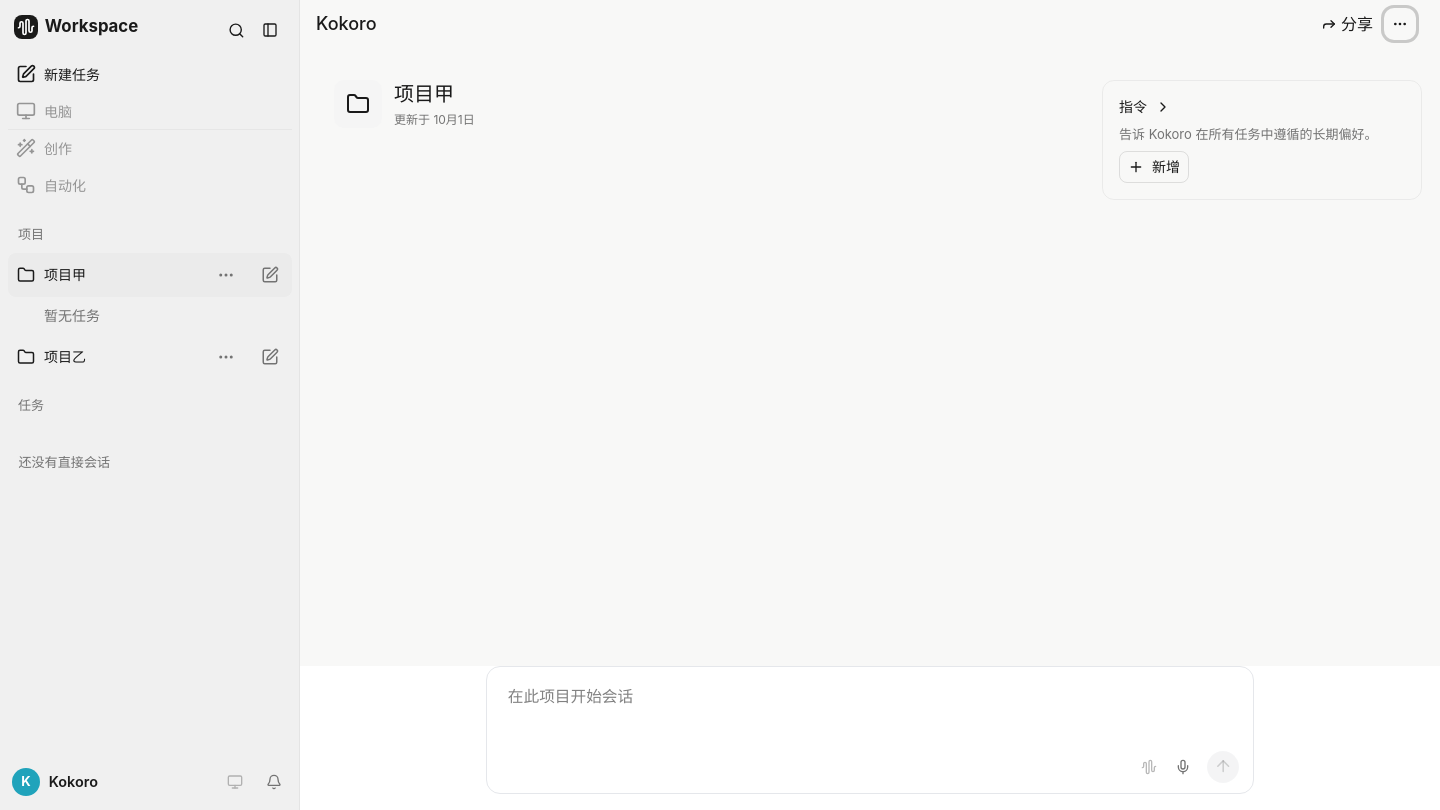
Test: 顶部菜单键盘打开同一项目指令 editor，取消零写入并回到原按钮
expect the heading "项目甲" is shown: met, box left=394, top=82, right=454, bottom=106
Press ArrowDown in the 1st button named "项目选项", box left=1384, top=8, right=1416, bottom=40
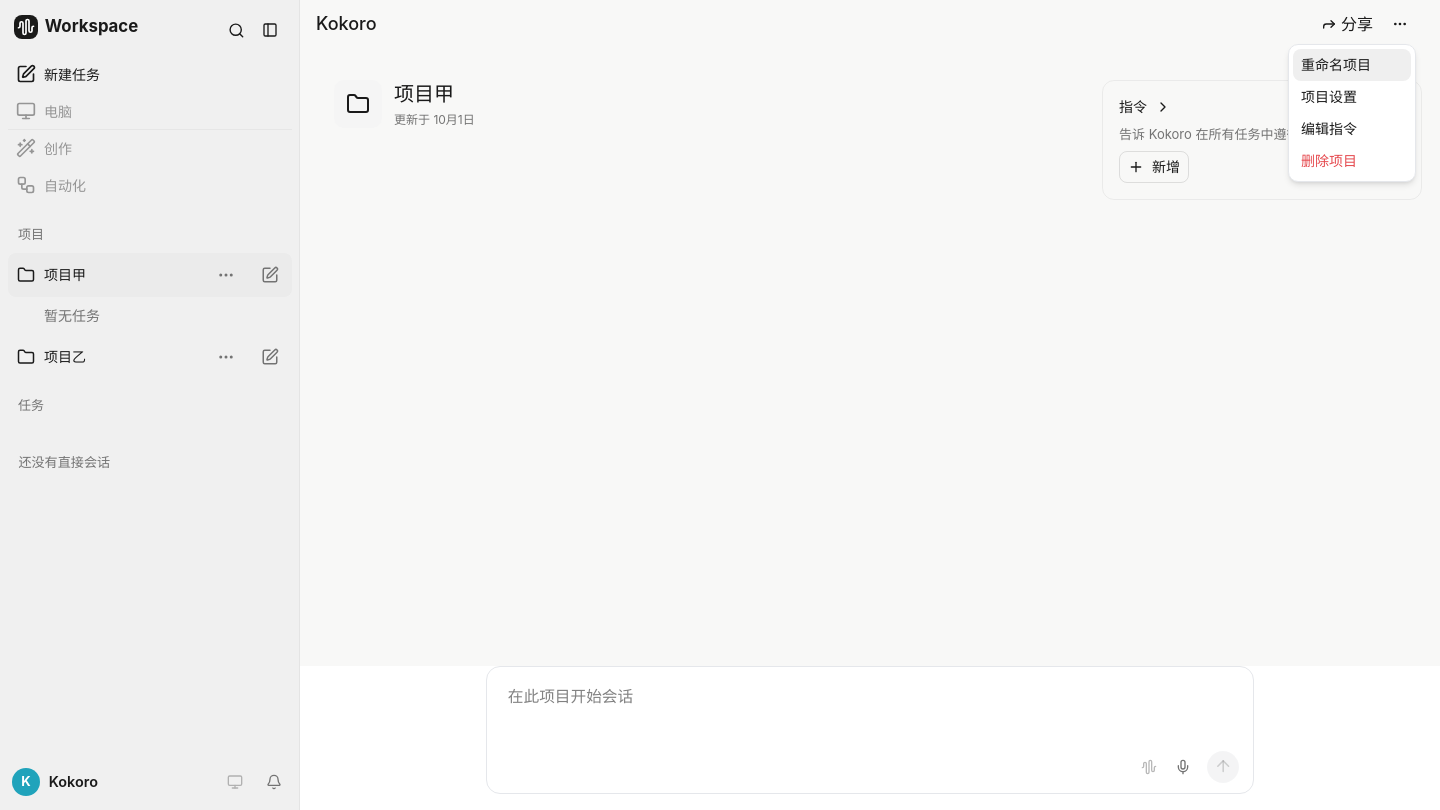
Click the menu item "编辑指令" at (1329, 128), box left=1301, top=120, right=1357, bottom=137
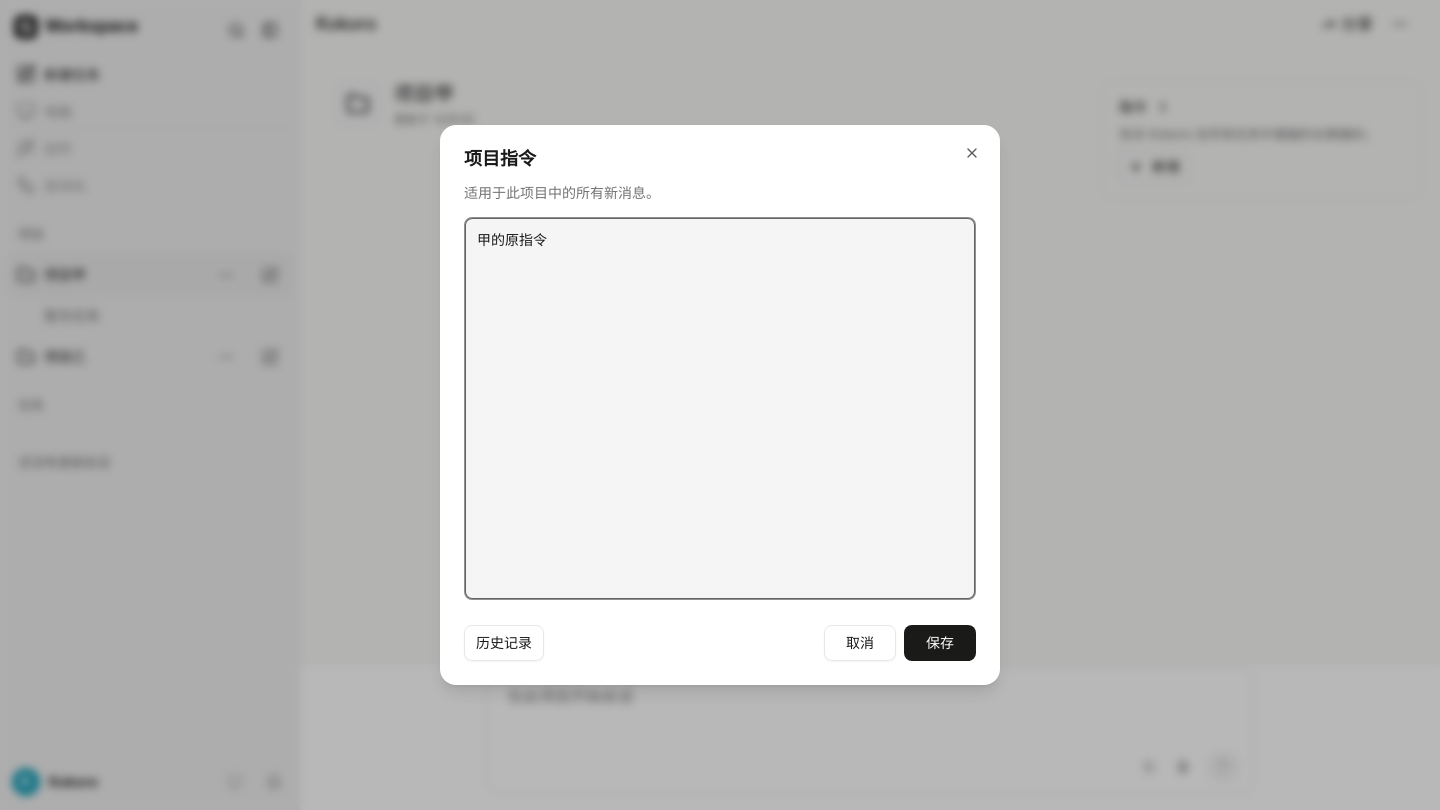
expect the text box named "项目指令" holds "甲的原指令": met
Replace the text in the text box named "项目指令" with "不保存的编辑" at (720, 408), box left=464, top=217, right=976, bottom=600
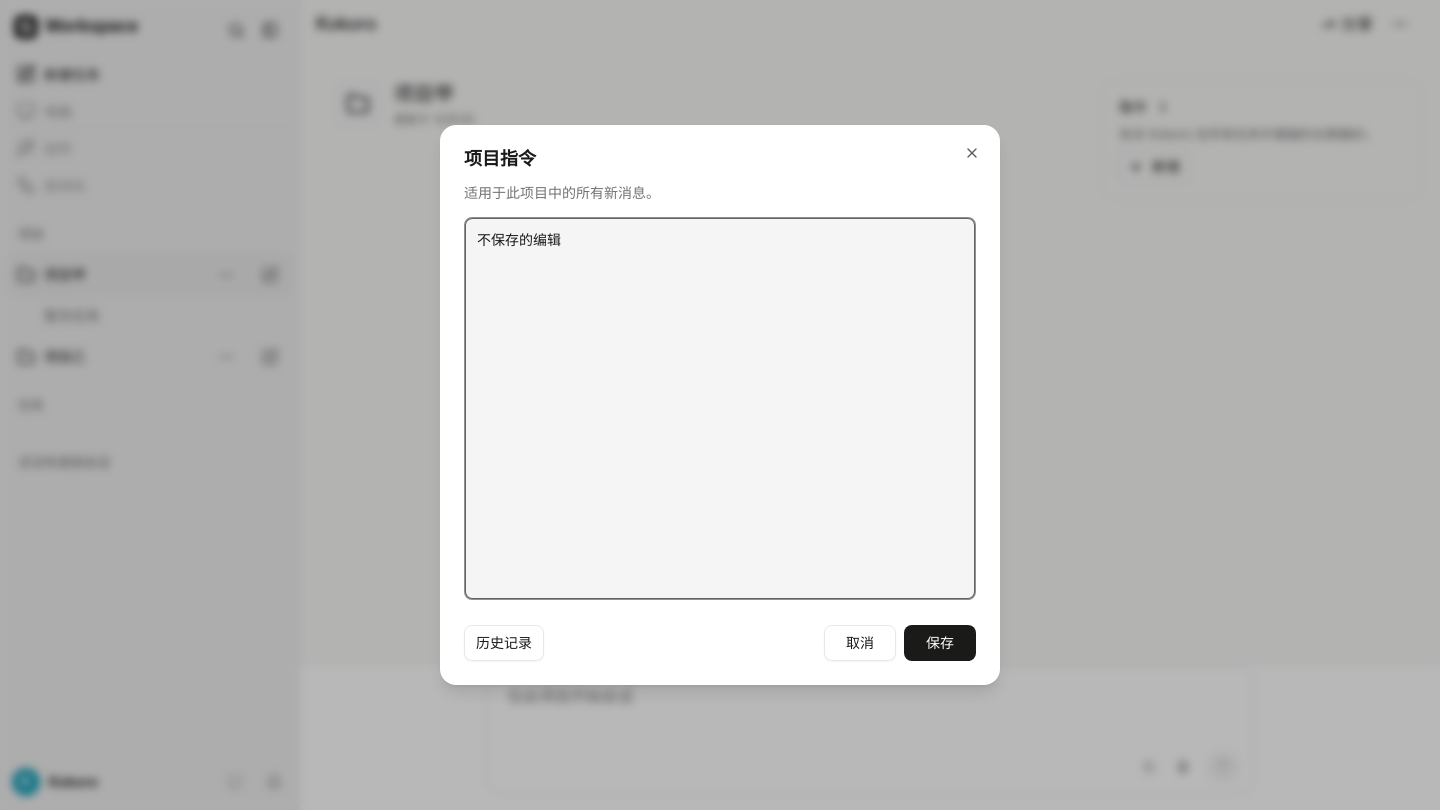
Click the button "取消" at (860, 643), box left=824, top=625, right=896, bottom=661
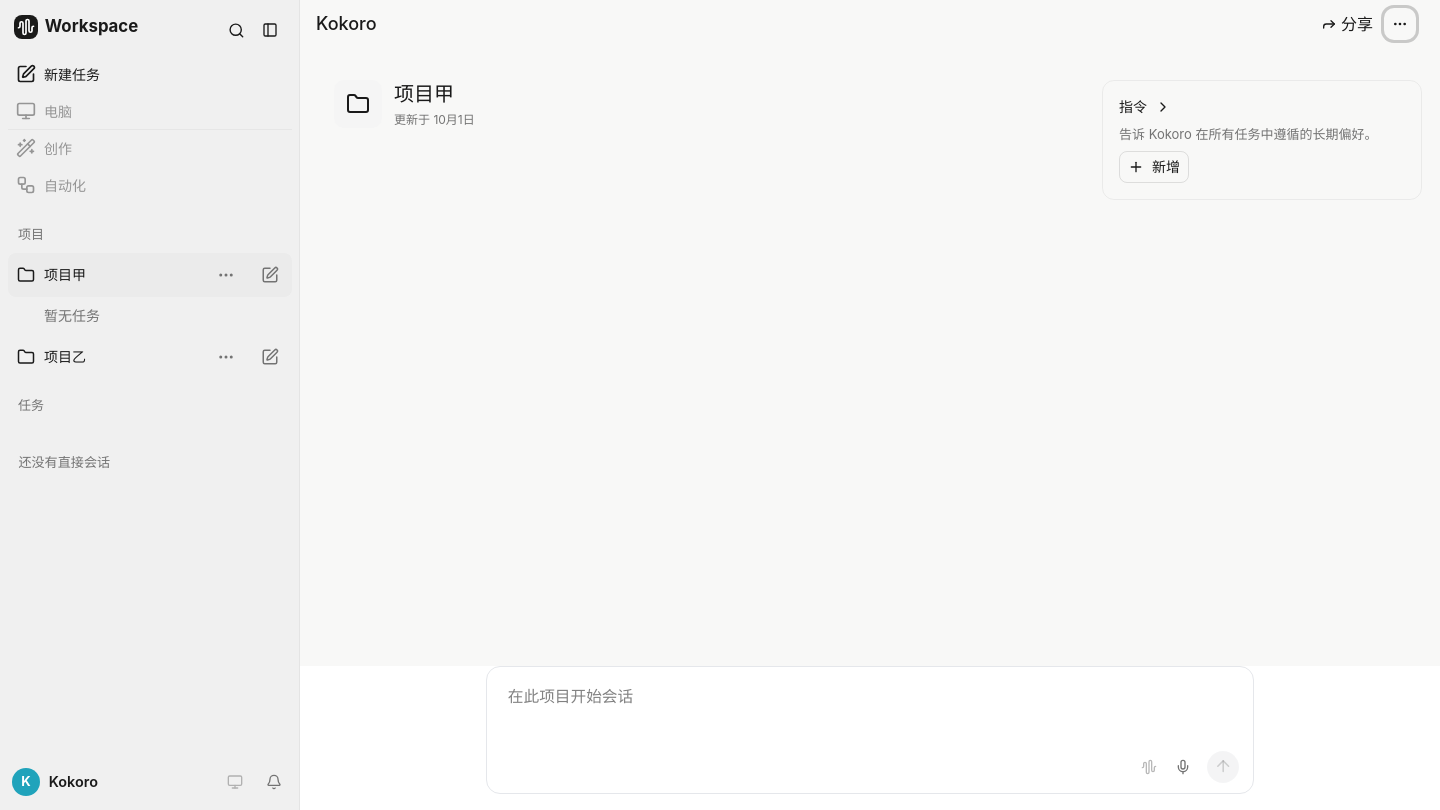
expect the heading "项目指令" is gone: met
